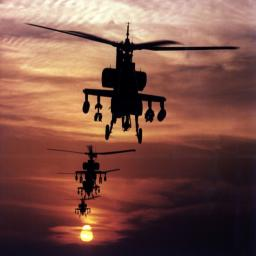helicopter: (26, 23, 241, 134), (48, 146, 137, 183), (67, 197, 95, 216), (78, 184, 107, 202)
